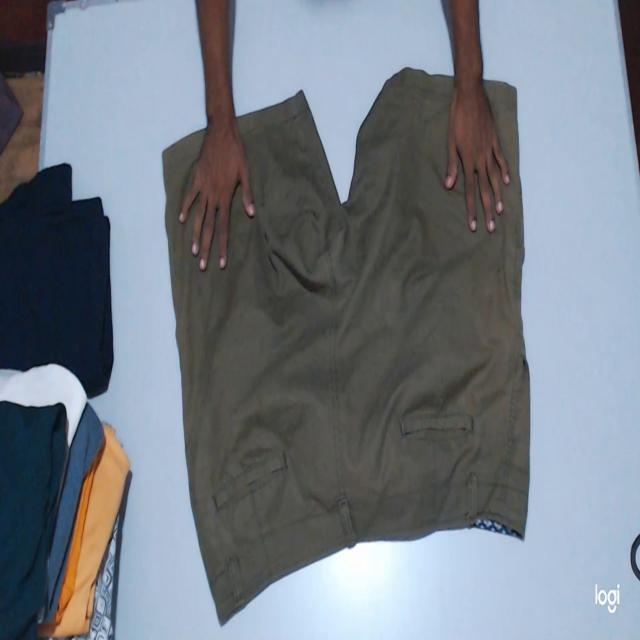new-garment: (163, 68, 530, 624)
